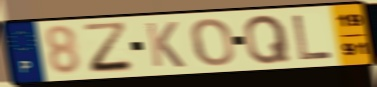8: (42, 23, 82, 77)
K: (143, 20, 187, 69)
L: (290, 13, 335, 62)
O: (189, 16, 237, 68)
Q: (242, 13, 293, 66)
Z: (81, 20, 138, 75)
